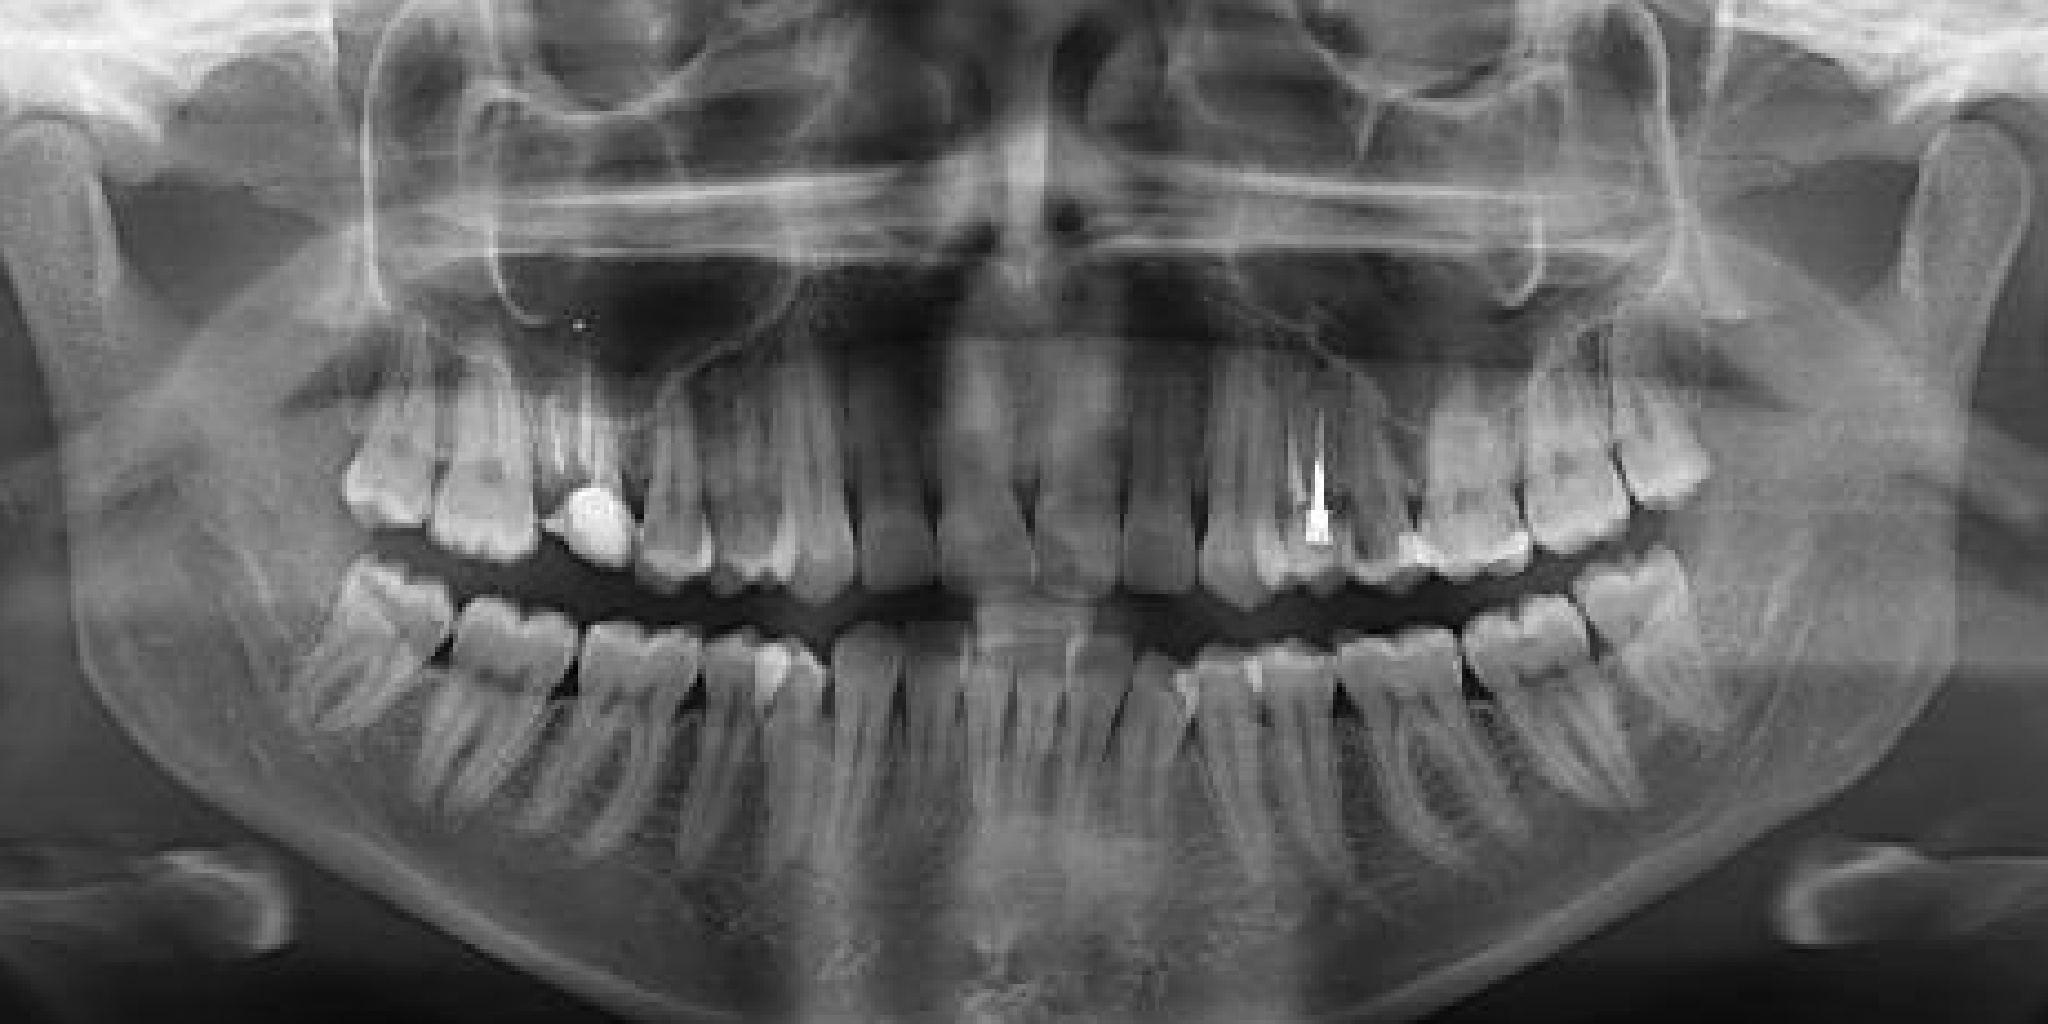Tooth: (168, 449, 533, 896), (1147, 569, 1507, 1016), (302, 503, 653, 950), (556, 543, 875, 986), (445, 543, 759, 986), (703, 550, 994, 987), (950, 191, 1236, 626), (1224, 234, 1509, 669), (1498, 167, 1783, 602), (935, 546, 1220, 981), (741, 229, 1019, 662), (893, 541, 1161, 969), (788, 536, 1055, 964), (1178, 246, 1425, 666), (658, 567, 905, 987), (615, 243, 862, 664), (280, 191, 521, 610), (1044, 225, 1285, 644), (852, 225, 1092, 644), (1029, 590, 1263, 1006), (1132, 236, 1360, 650), (370, 219, 597, 632), (472, 223, 694, 633), (871, 550, 1092, 960), (564, 252, 785, 662)
